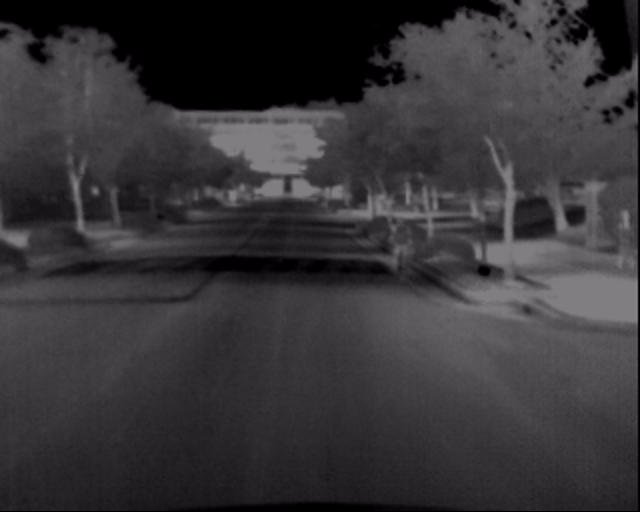person: (390, 218, 415, 269)
